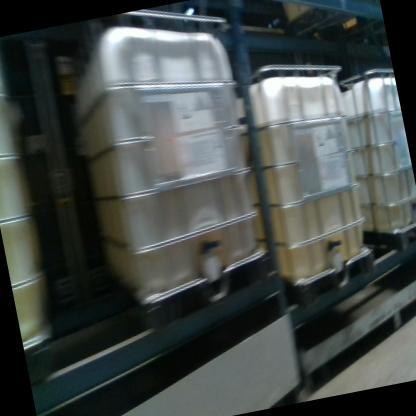pallet: (131, 247, 285, 335), (278, 247, 381, 314), (359, 219, 416, 257)
